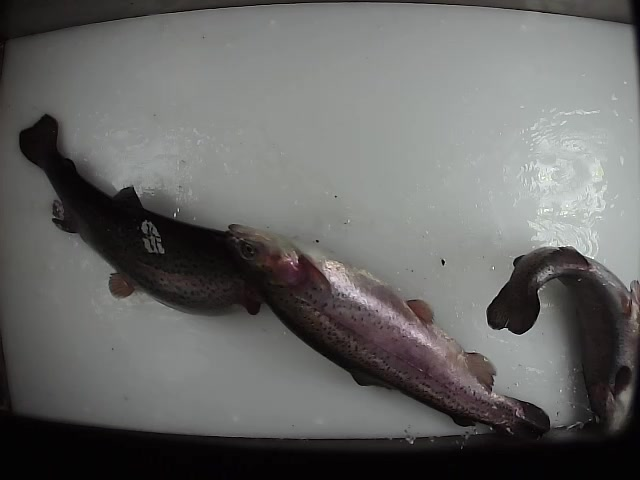fish: (222, 220, 552, 444), (16, 111, 289, 322), (485, 243, 640, 436)
